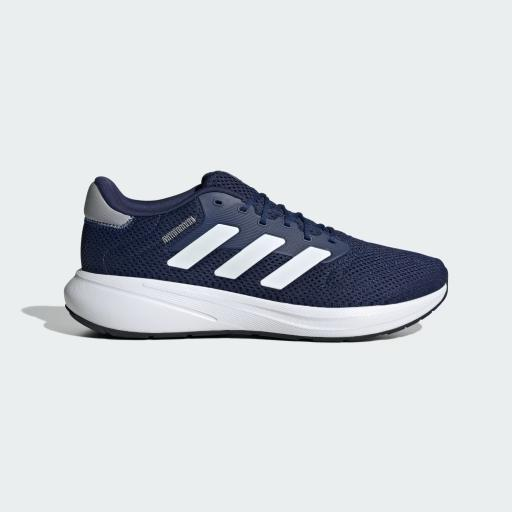shoe: (59, 168, 450, 344)
